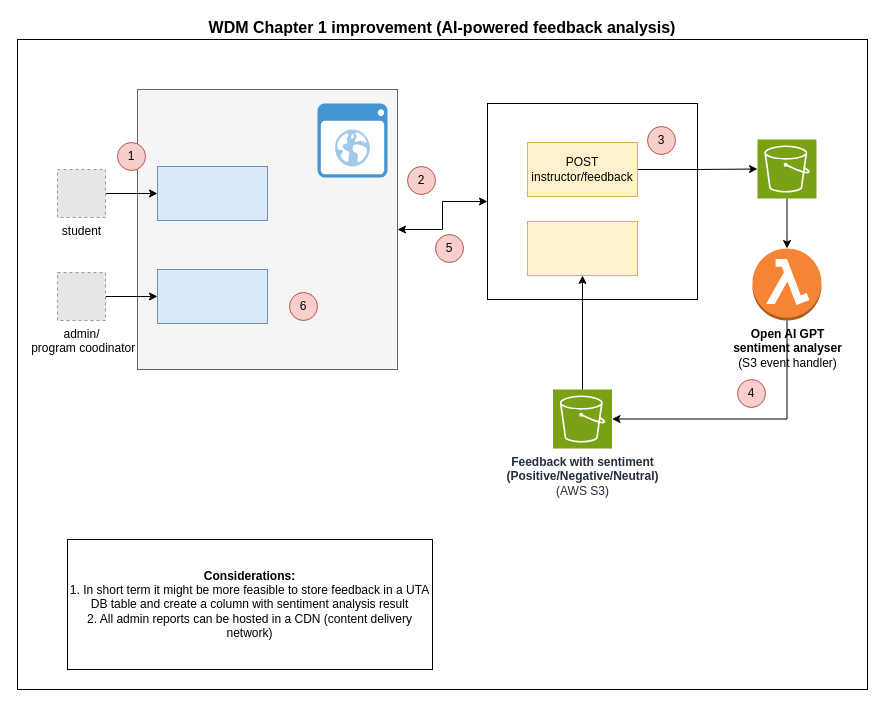
This 885x707 diagram has some shape labels left out. Grey dashed boxes stand in for pictures. Each missing label, with the box of its shape:
Admin view feedback dashboard: (156, 268, 268, 324)
Backend server: (486, 102, 698, 300)
GET /instructor/feedback: (526, 220, 638, 276)
React UI: (317, 103, 387, 177)
Student feedback (AWS S3): (756, 138, 816, 198)
Student feedback form: (156, 166, 268, 220)
